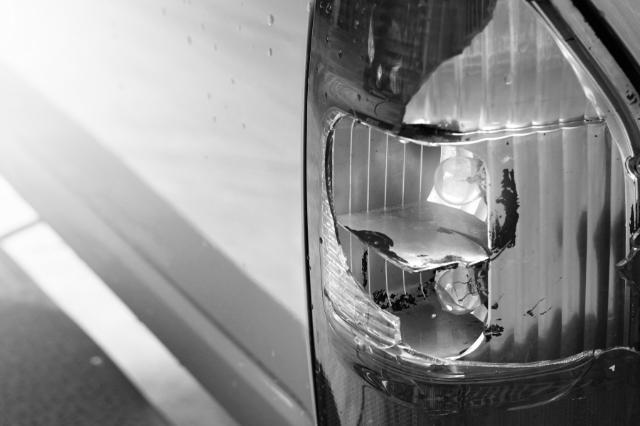Light: (314, 0, 610, 426)
